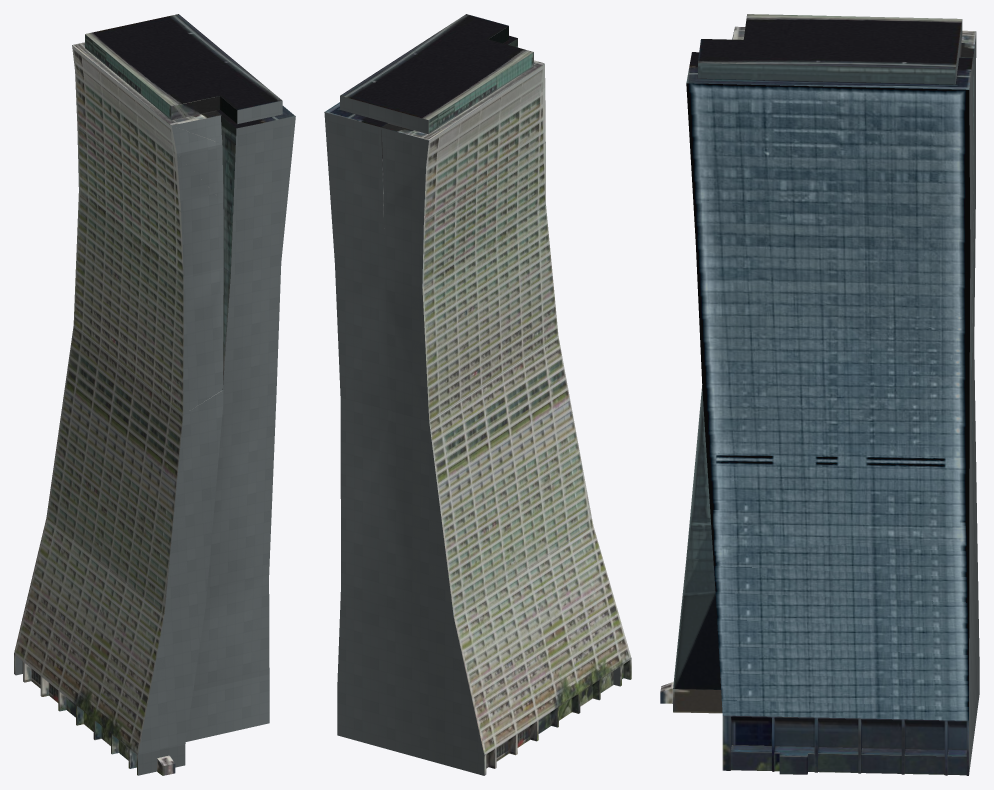
The picture shows the model from 3 angles, left to right: view 1: azimuth 30°, elevation 25°; view 2: azimuth 150°, elevation 25°; view 3: azimuth 270°, elevation 25°; orthographic projection. The views are drawn at different scales.
Visible parts, largest first — view 1: 9_0.glb; view 2: 9_0.glb; view 3: 9_0.glb.
Part boxes in pixels (box(x1,y1,x2,y2)): 9_0.glb: box(14, 14, 295, 775); 9_0.glb: box(324, 14, 631, 775); 9_0.glb: box(660, 14, 979, 775).
Bounding box in the file's own units: 52.47 × 181 × 73.93.
Materials: 3 (3 with a texture image).
